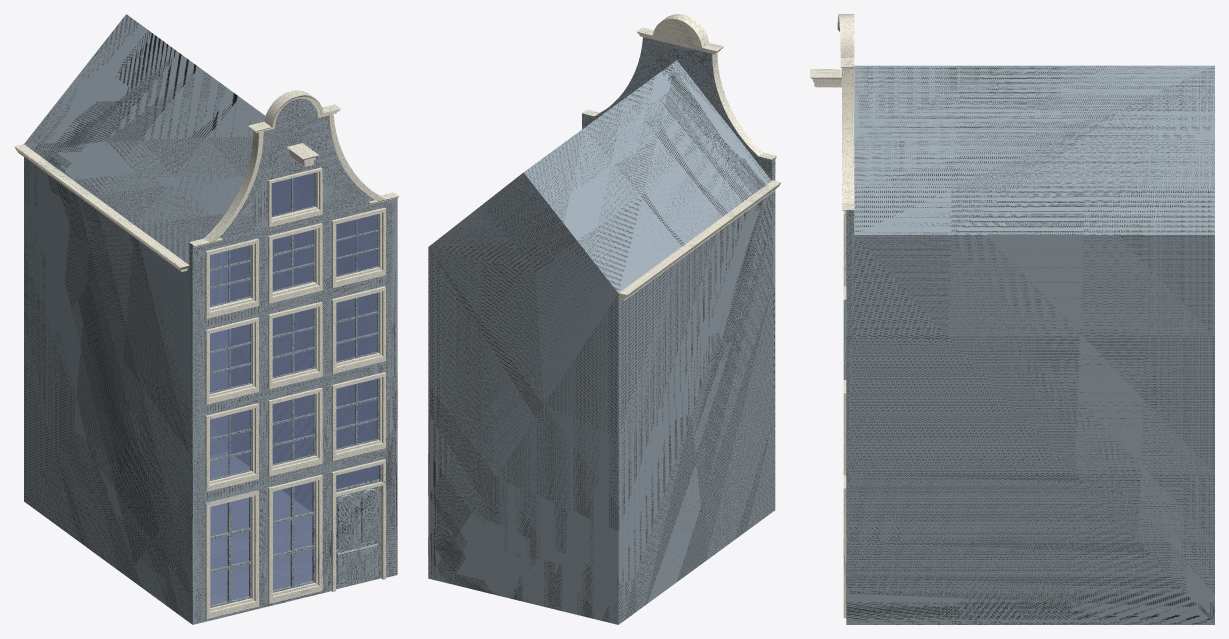
File: House1.fbx
3 renders of one model, left to right at view 1: azimuth 30°, elevation 25°; view 2: azimuth 150°, elevation 25°; view 3: azimuth 270°, elevation 25°, orthographic. The views are drawn at different scales.
Visible parts, largest first — view 1: Group1; view 2: Group1; view 3: Group1.
Part boxes in pixels (x1,y1,x2,y2): Group1: (14, 14, 399, 624); Group1: (428, 14, 781, 624); Group1: (810, 14, 1214, 624).
Size of the model in its own units: 185 by 419 by 278.
